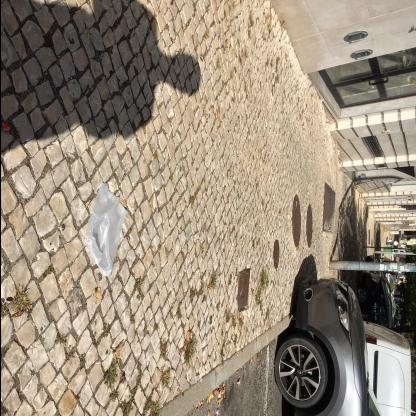plastik: (84, 184, 126, 278)
